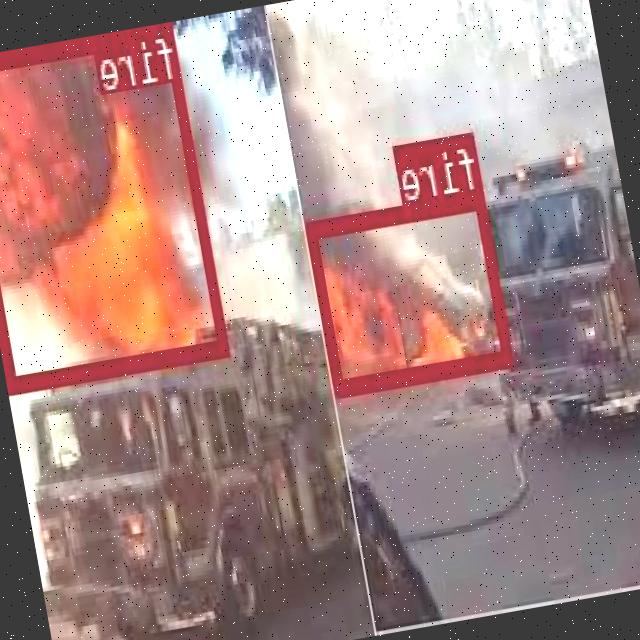fire: (0, 21, 231, 388), (306, 187, 514, 392)
